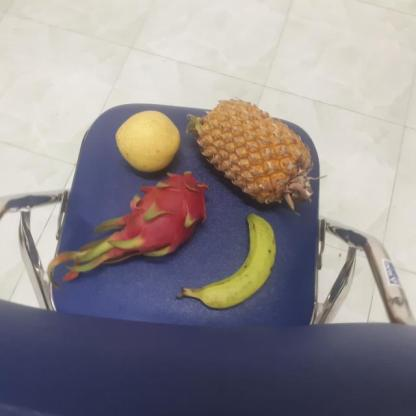banana: (174, 212, 276, 309)
pear: (111, 110, 182, 174)
pineapple: (185, 97, 315, 212)
pitaya: (121, 170, 206, 259)
